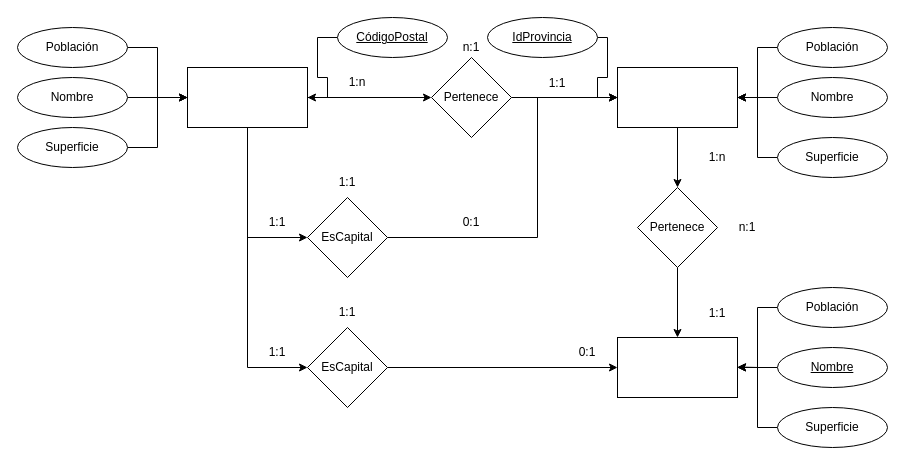
This 905x465 diagram has some shape labels left out. Each missing label, with the centre of its shape:
"Comunidades Autónomas" goes at point 677,367.
"Localidades" goes at point 247,97.
"Provincias" goes at point 677,97.
